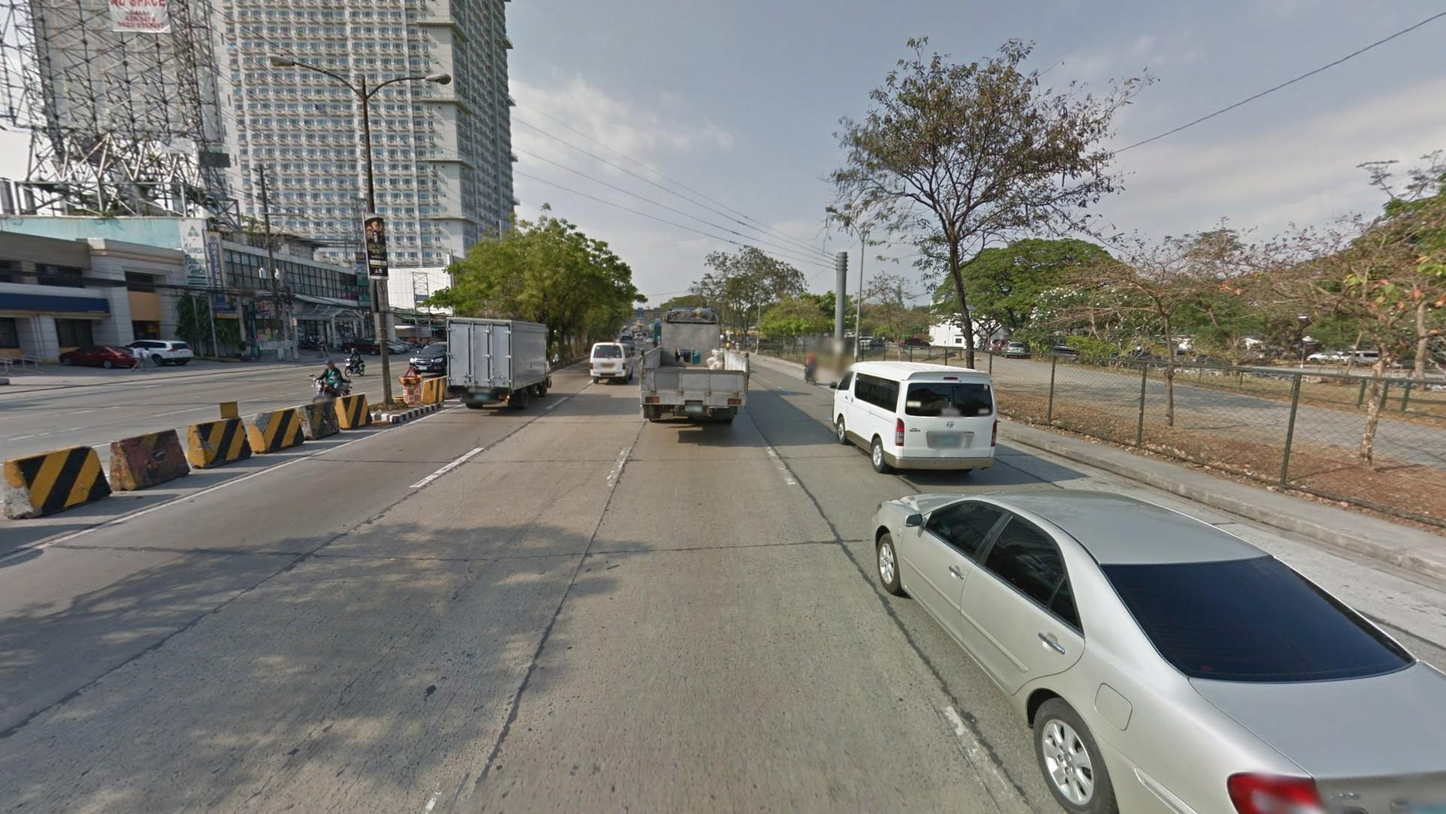cyclist: (800, 347, 820, 386)
pedestrian: (141, 345, 159, 372), (128, 344, 143, 372), (734, 341, 741, 357), (725, 340, 731, 356)
